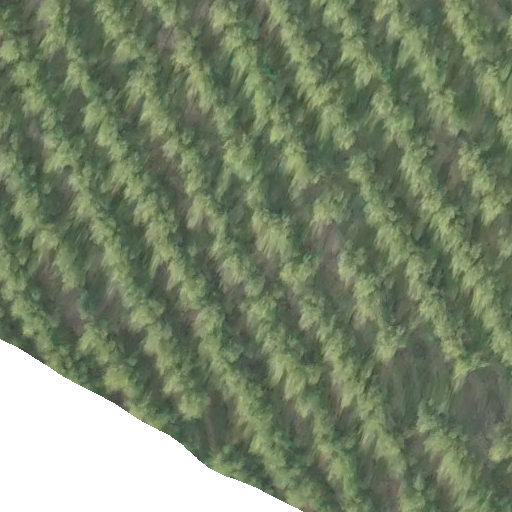eucalipto: (307, 182, 359, 239), (184, 63, 226, 109), (357, 278, 394, 322), (380, 218, 418, 260), (280, 256, 320, 293), (435, 205, 471, 246), (200, 335, 242, 369), (299, 64, 336, 102), (451, 348, 489, 385), (106, 359, 145, 395), (223, 370, 263, 405), (96, 124, 136, 159), (317, 325, 356, 359), (337, 242, 369, 283), (84, 325, 121, 360), (51, 137, 86, 174), (179, 274, 218, 307), (403, 138, 436, 176), (375, 325, 411, 359), (247, 298, 286, 329), (417, 55, 452, 89), (415, 398, 450, 432), (298, 291, 331, 327), (233, 42, 269, 75), (115, 37, 158, 64), (171, 30, 203, 66), (247, 71, 284, 102), (192, 191, 229, 222), (9, 59, 47, 88), (347, 150, 380, 183), (65, 58, 99, 90), (425, 88, 459, 120), (195, 307, 231, 337), (124, 66, 160, 96), (100, 13, 140, 40), (222, 139, 255, 171), (33, 225, 66, 257), (88, 213, 122, 244), (470, 164, 500, 199), (223, 24, 258, 54), (461, 37, 494, 68), (21, 86, 57, 114), (180, 387, 211, 419), (131, 298, 164, 328), (145, 322, 178, 352), (85, 96, 118, 126), (123, 175, 158, 203), (332, 119, 362, 151), (162, 130, 194, 160), (103, 241, 135, 271), (355, 54, 388, 83), (460, 142, 489, 175), (371, 84, 399, 118), (388, 10, 419, 40), (244, 176, 272, 208), (453, 244, 483, 273), (227, 256, 256, 282)
